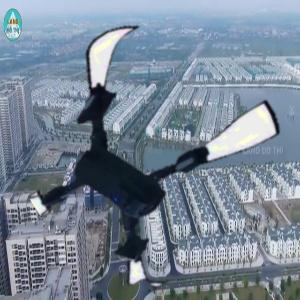drone: (23, 23, 280, 280)
